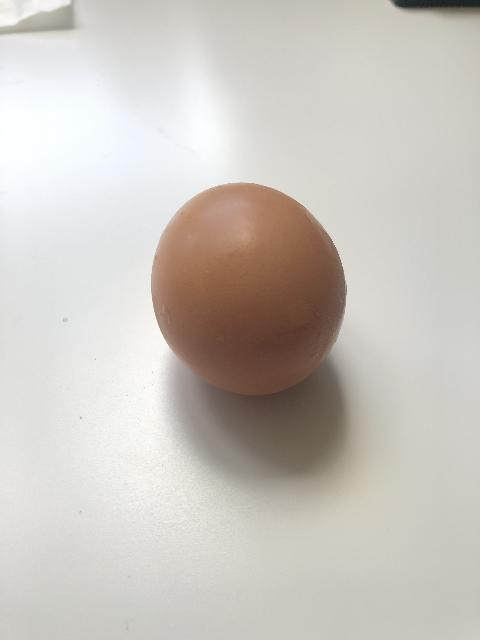Sano: (150, 180, 348, 396)
